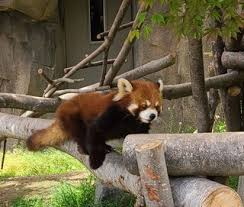redPanda: (16, 69, 168, 166)
